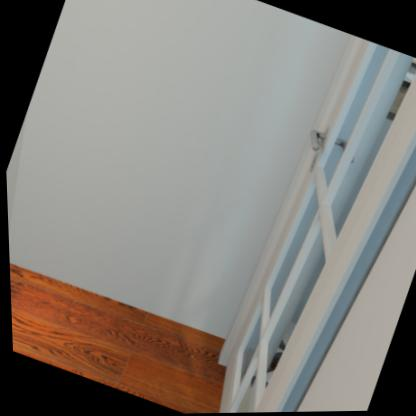Wooden floor: (8, 264, 222, 414)
